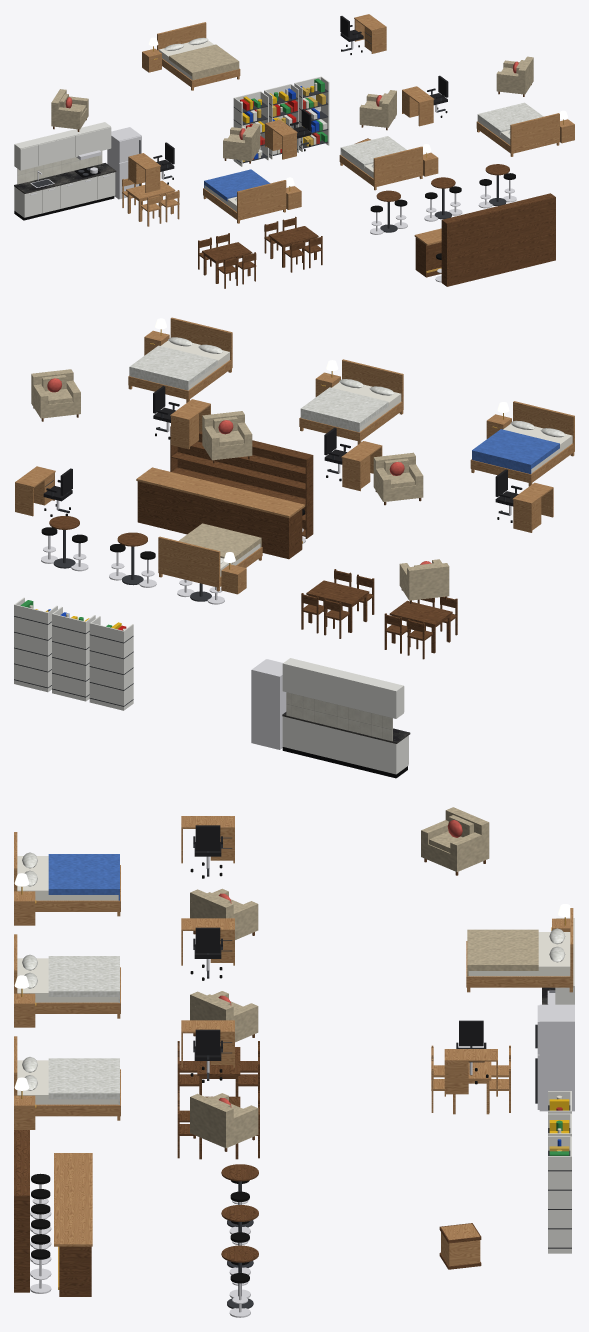
The model's file is i_wuxia_inn.gltf.
The picture shows the model from 3 angles, top to bottom: view 1: azimuth 30°, elevation 25°; view 2: azimuth 150°, elevation 25°; view 3: azimuth 270°, elevation 25°; orthographic projection. The views are drawn at different scales.
Parts seen in each view (by area): view 1: I_wuxia_inn; view 2: I_wuxia_inn; view 3: I_wuxia_inn.
Part boxes in pixels (<box>): I_wuxia_inn: <box>14,14,574,288</box>; I_wuxia_inn: <box>14,317,574,778</box>; I_wuxia_inn: <box>14,807,574,1317</box>.
Bounding box in the file's own units: 13.49 × 4.65 × 10.49.
Materials: 25 (9 with a texture image).
